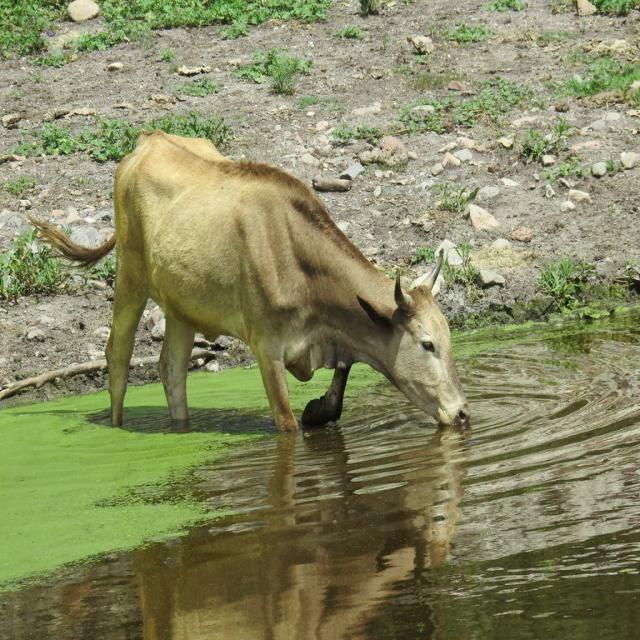cow: (31, 131, 469, 431)
